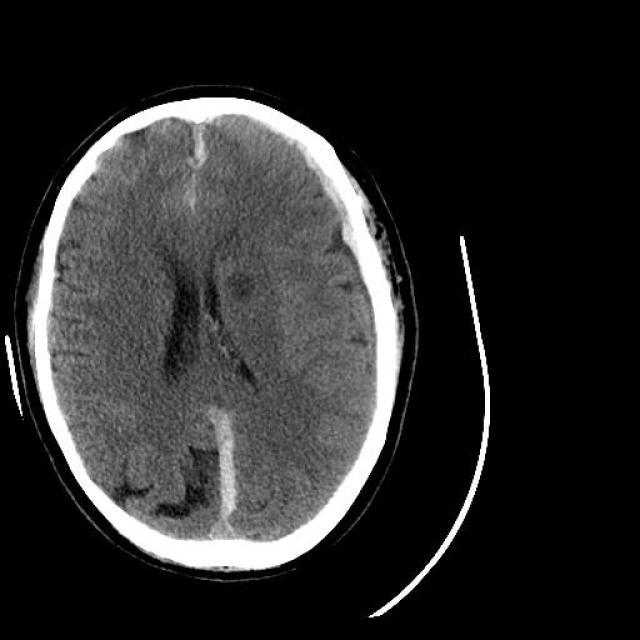Subdural: (231, 106, 401, 280), (188, 398, 250, 548)
